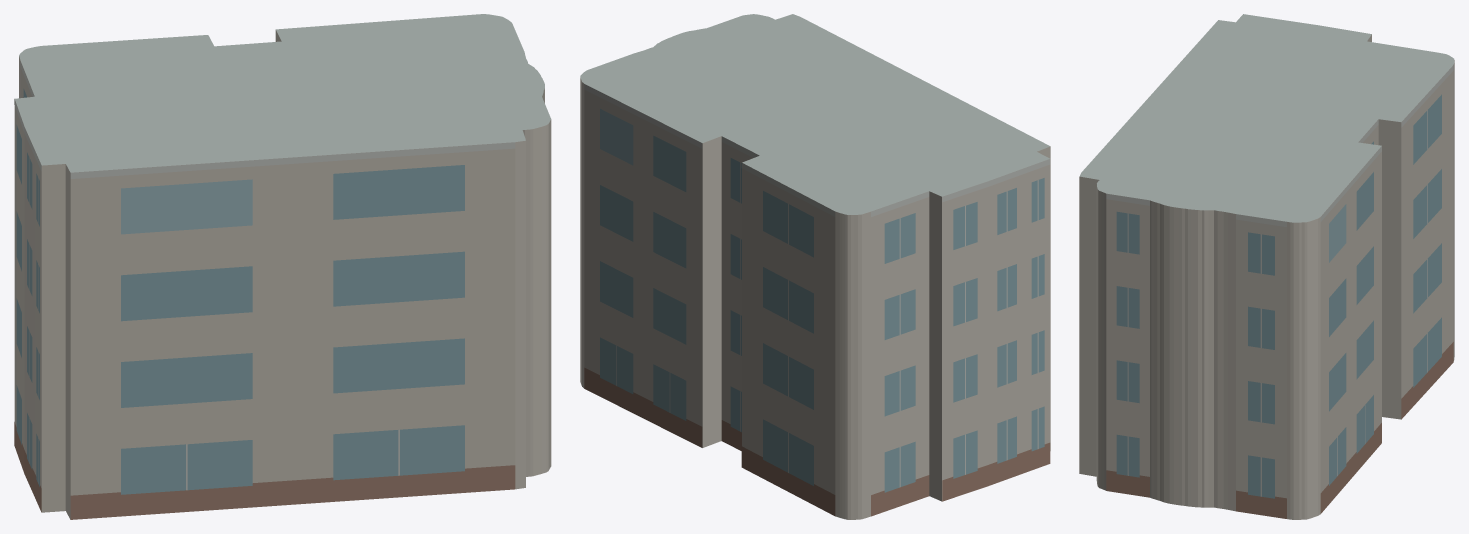
The model's file is survey-upis-32996937.glb.
The picture shows the model from 3 angles, left to right: view 1: azimuth 30°, elevation 25°; view 2: azimuth 150°, elevation 25°; view 3: azimuth 270°, elevation 25°; orthographic projection. The views are drawn at different scales.
Visible parts, largest first — view 1: survey-upis-32996937.tmp; view 2: survey-upis-32996937.tmp; view 3: survey-upis-32996937.tmp.
Part boxes in pixels (x1,y1,x2,y2): survey-upis-32996937.tmp: [14, 14, 551, 519]; survey-upis-32996937.tmp: [580, 14, 1050, 519]; survey-upis-32996937.tmp: [1079, 14, 1454, 519].
Size of the model in its own units: 19.79 by 13.15 by 15.03.
